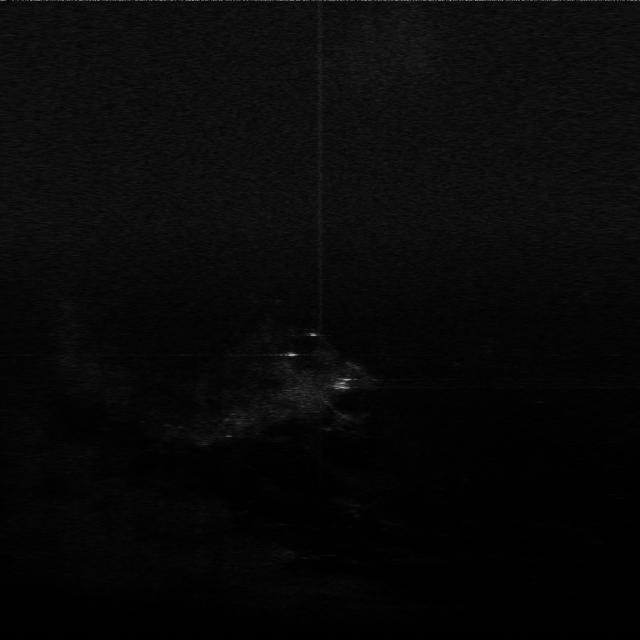rov: (330, 373, 356, 393)
